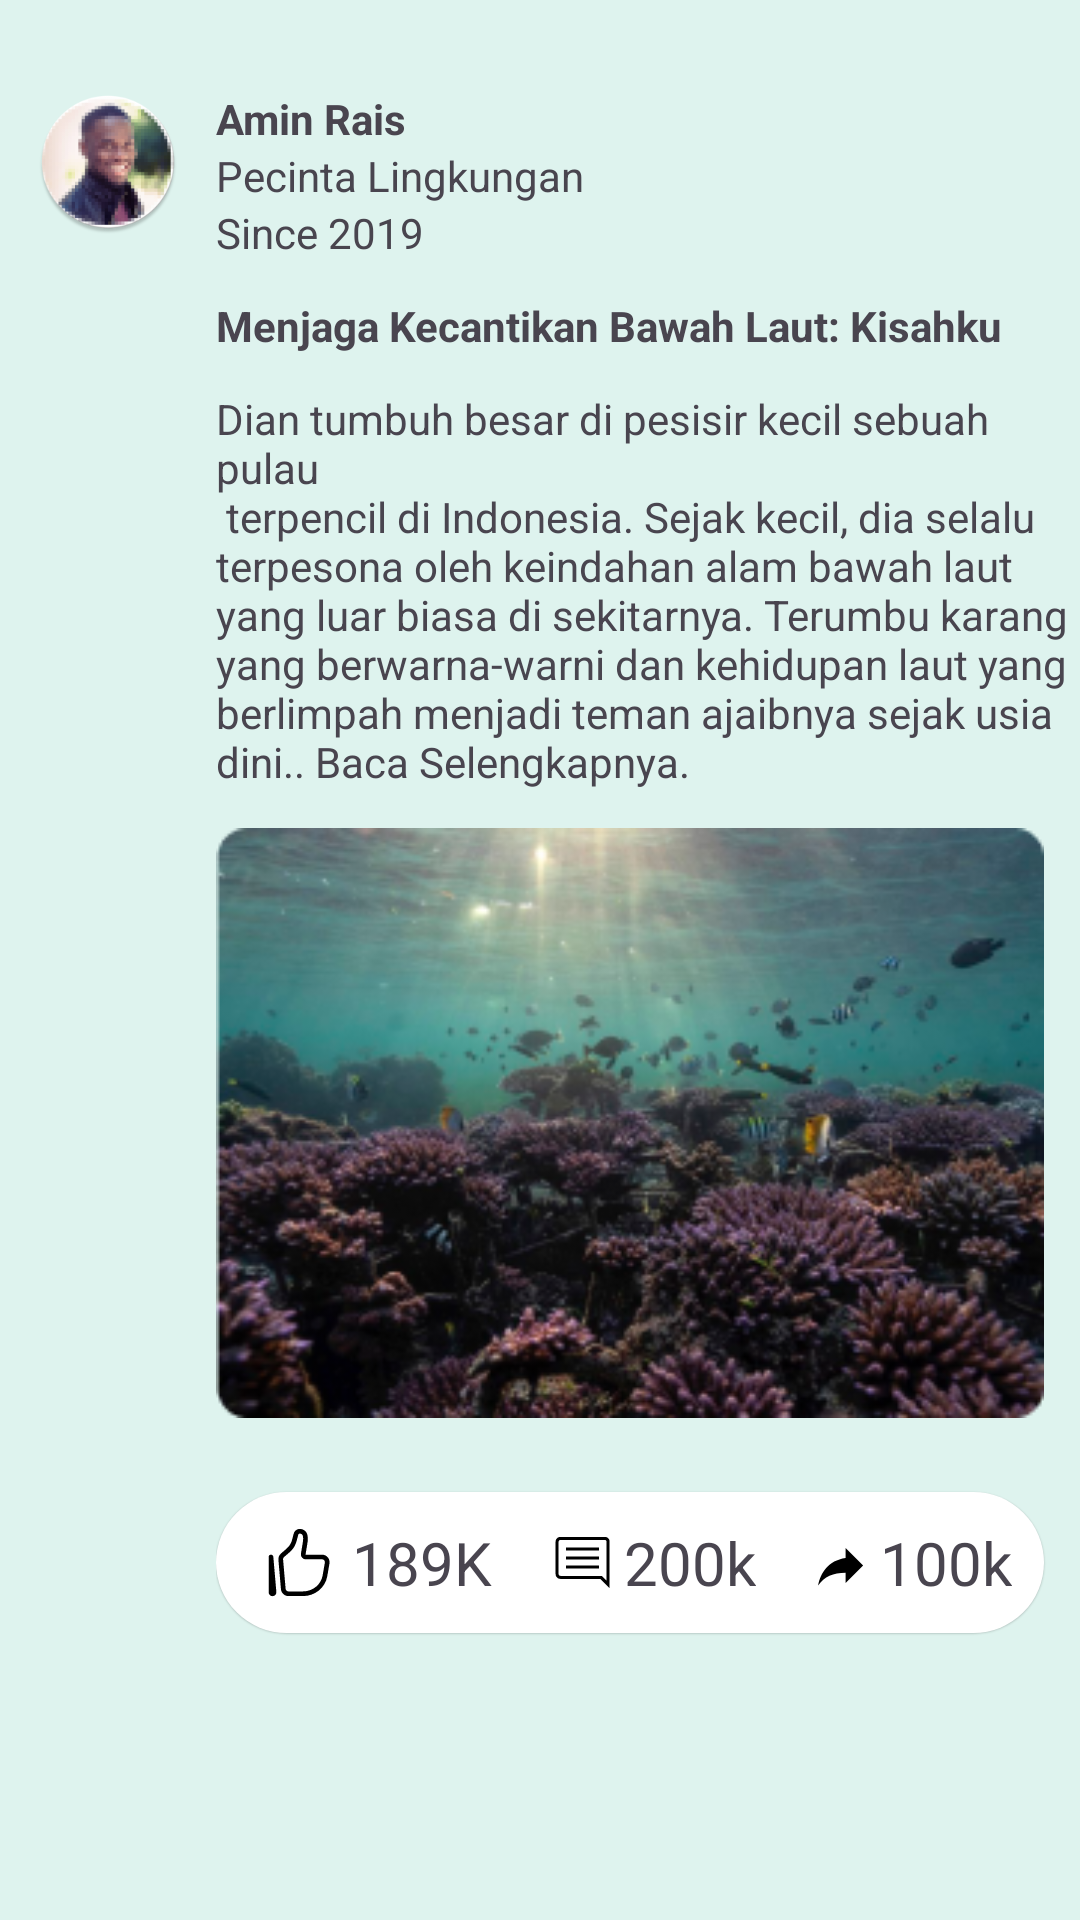

Where icons sit on this 1080*1920 app screen, as (x1, y1, x2, y2):
comment section: (555, 1537, 610, 1588)
like section: (268, 1529, 330, 1597)
share section: (818, 1548, 863, 1585)
user: (42, 96, 175, 231)
